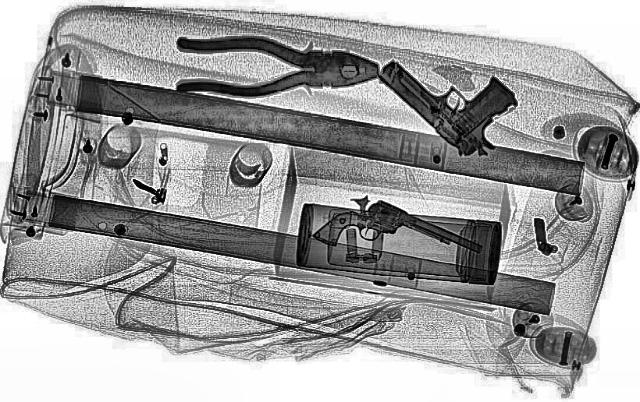Gun: (360, 38, 562, 166), (305, 191, 487, 288)
Pliers: (170, 34, 382, 99)
